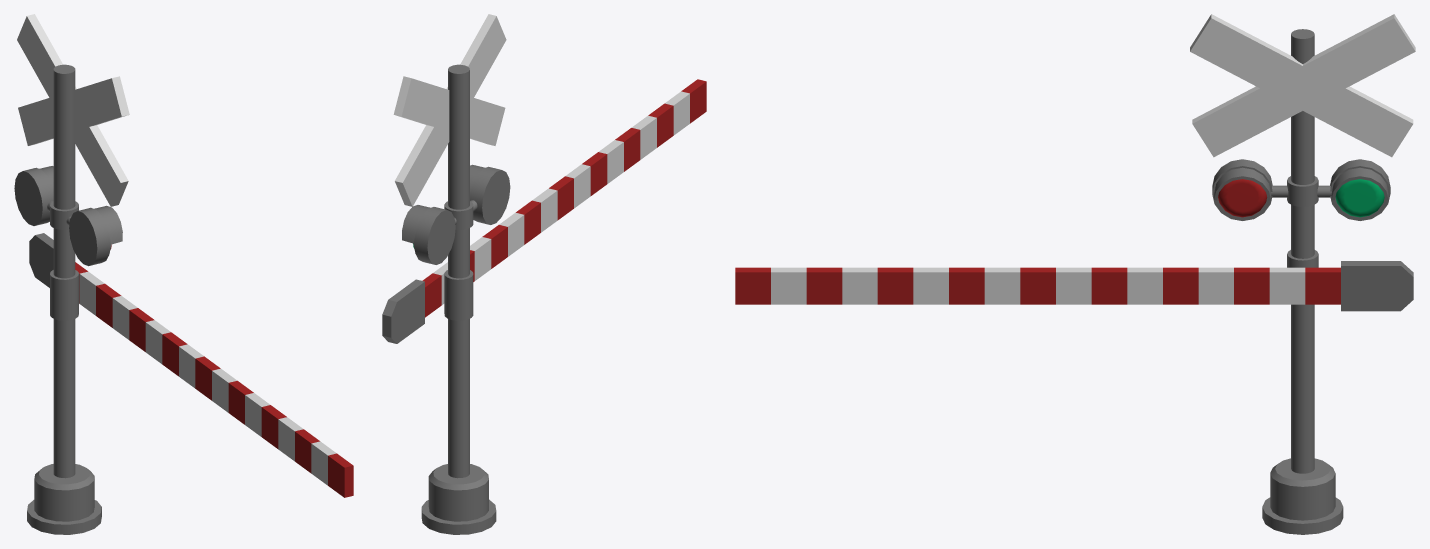
File: SM_TrainPassingSign01.fbx
3 views of the same model, side by side, from view 1: azimuth 30°, elevation 25°; view 2: azimuth 150°, elevation 25°; view 3: azimuth 270°, elevation 25° (orthographic). The views are drawn at different scales.
Parts seen in each view (by area): view 1: SM_TrainPassingSign01; view 2: SM_TrainPassingSign01; view 3: SM_TrainPassingSign01.
Part boxes in pixels (box(x1,y1,x2,y2)): SM_TrainPassingSign01: box(14, 14, 353, 534); SM_TrainPassingSign01: box(382, 14, 706, 534); SM_TrainPassingSign01: box(735, 14, 1415, 534).
Bounding box in the file's own units: 66.17 × 456 × 555.
